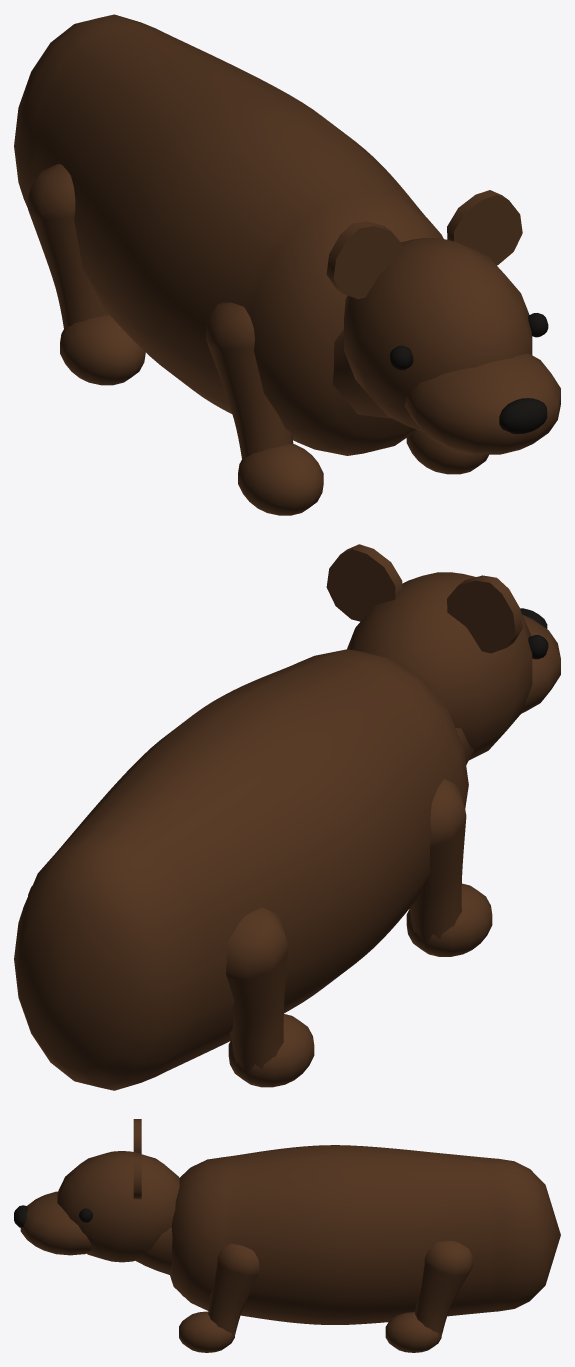
Rendered from capybara.obj.
3 views of the same model, one above another, from view 1: azimuth 30°, elevation 25°; view 2: azimuth 150°, elevation 25°; view 3: azimuth 270°, elevation 25° (orthographic). The views are drawn at different scales.
Visible parts, largest first — view 1: capybara_0, capybara_1; view 2: capybara_0; view 3: capybara_0, capybara_1.
Boxes of the visible parts, <box> form: capybara_0: <box>14,14,560,515</box>; capybara_1: <box>390,313,548,433</box>; capybara_0: <box>14,544,560,1090</box>; capybara_0: <box>20,1119,560,1352</box>; capybara_1: <box>14,1205,92,1227</box>.
Bounding box in the file's own units: 0.3628 × 0.4554 × 1.2.
